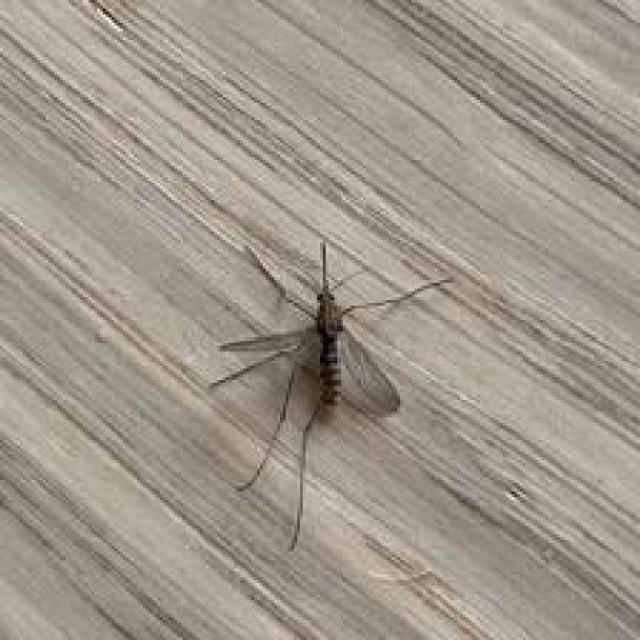Culex: (207, 237, 453, 552)
